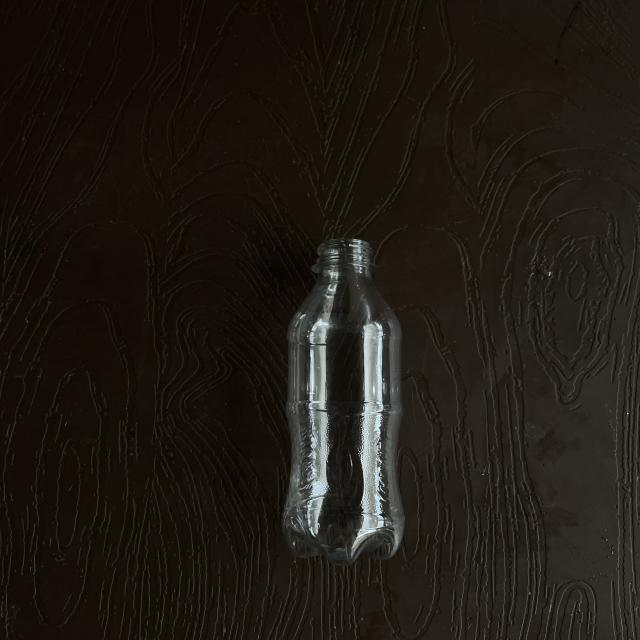PET_ClearBottle: (271, 238, 415, 630)
